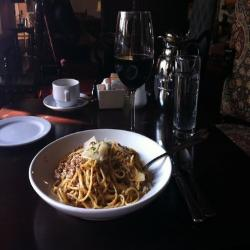bolonese_pasta: (52, 135, 155, 214)
